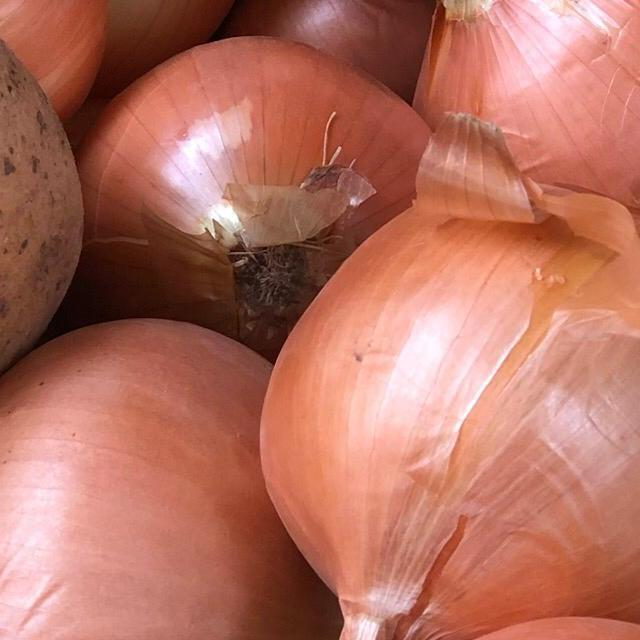onion: (237, 157, 640, 640), (385, 0, 640, 242)
potato: (0, 0, 97, 462)
